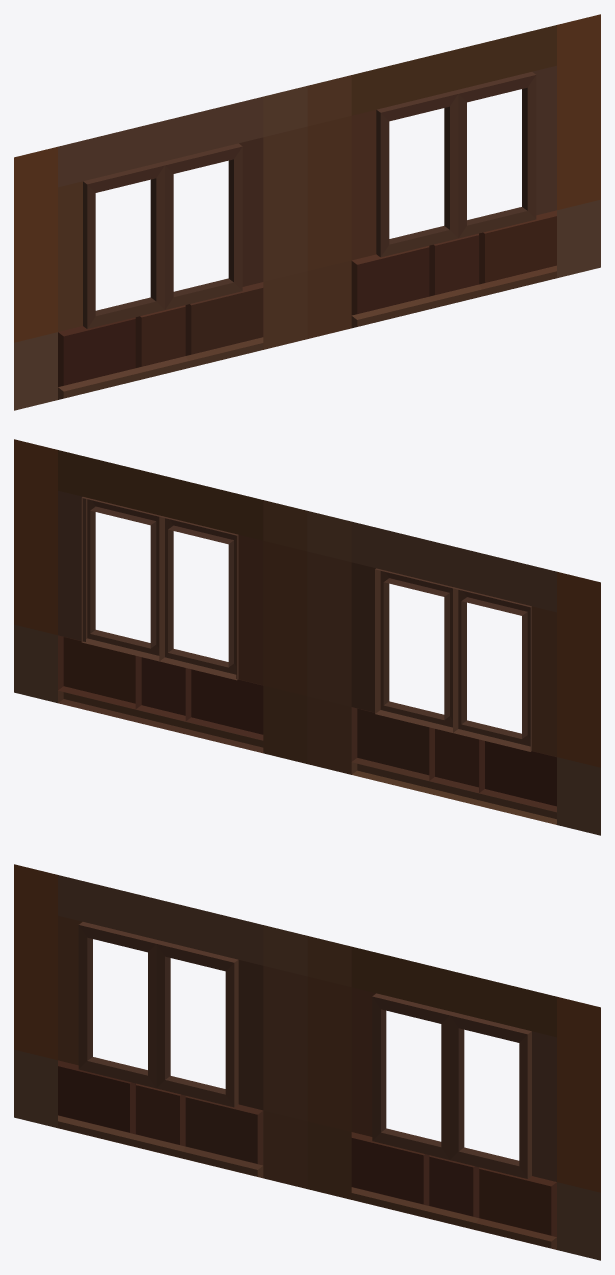
Rendered from Wall_HomeA-PanelWindowA-6m.fbx.
3 renders of one model, top to bottom at view 1: azimuth 30°, elevation 25°; view 2: azimuth 150°, elevation 25°; view 3: azimuth 330°, elevation 25°, orthographic.
Visible parts, largest first — view 1: Wall_HomeA-PanelWindowA-6m; view 2: Wall_HomeA-PanelWindowA-6m; view 3: Wall_HomeA-PanelWindowA-6m.
Part boxes in pixels (left/top/right/bottom): Wall_HomeA-PanelWindowA-6m: left=14, top=14, right=600, bottom=410; Wall_HomeA-PanelWindowA-6m: left=14, top=439, right=600, bottom=835; Wall_HomeA-PanelWindowA-6m: left=14, top=864, right=600, bottom=1260.
Size of the model in its own units: 600 by 247 by 10.
